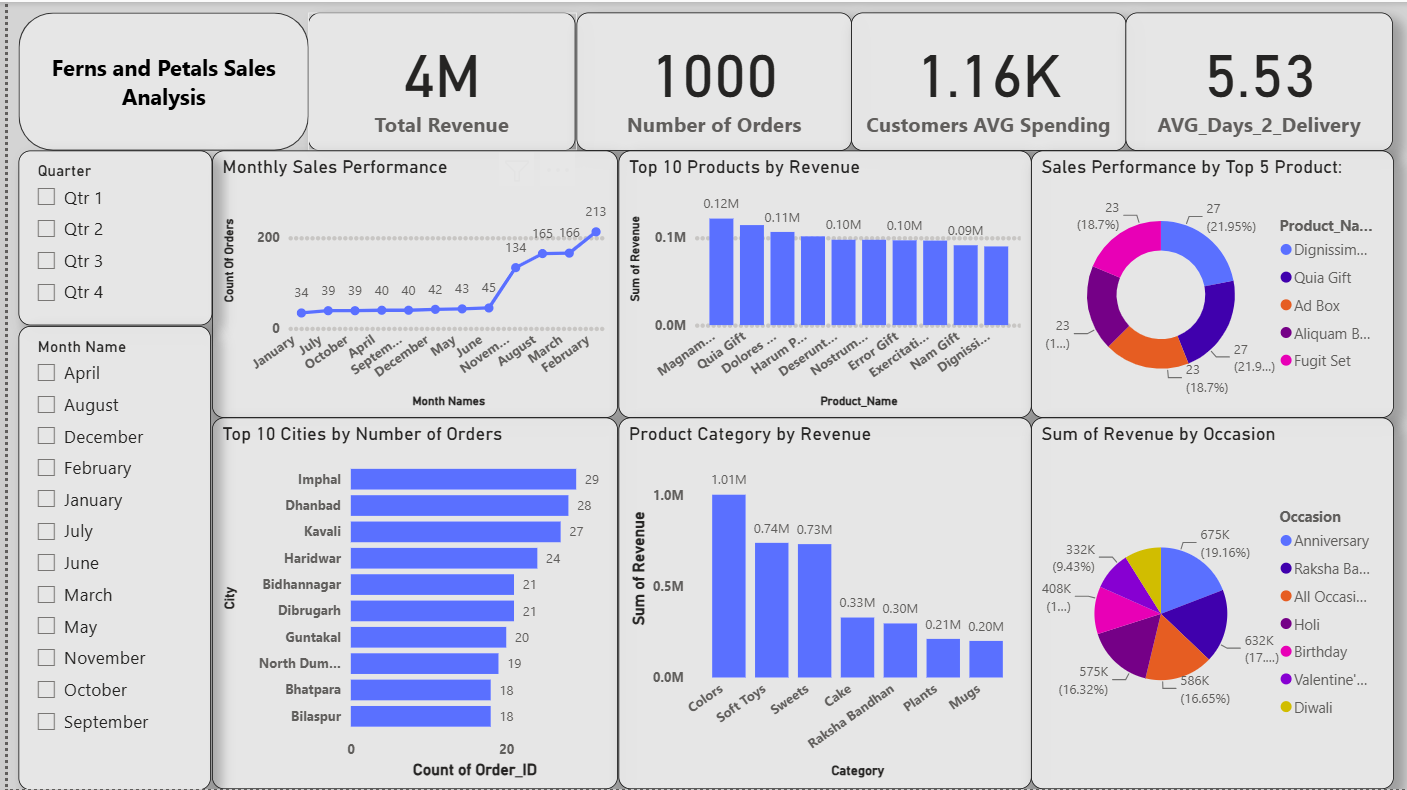

Layout of this report page (visuals, bound fields, positions):
{"tool":"powerbi","page":{"name":"Dashboard","canvas":[1280,720],"ordinal":0},"visuals":[{"type":"card","fields":{"Values":["Products.Total Revenue"]},"box":[274.9,9.3,244.7,126.4],"z":0},{"type":"card","fields":{"Values":["CountNonNull(orders.Order_ID)"]},"box":[519.6,9.3,251.7,126.4],"z":1000},{"type":"card","fields":{"Values":["Avg(orders.Price)"]},"box":[771.3,9.3,251.7,126.4],"z":2000},{"type":"card","fields":{"Values":["Avg(orders.Days)"]},"box":[1023,9.3,244.7,126.4],"z":3000},{"type":"shape","box":[9.3,9.3,265.6,126.4],"z":4000},{"type":"lineChart","title":"Monthly Sales Performance","fields":{"Category":["orders.Month Name"],"Y":["CountNonNull(orders.Order_ID)"]},"box":[186.7,135.7,371.2,244.7],"z":5000},{"type":"columnChart","title":"Top 10 Products by Revenue","fields":{"Category":["Products.Product_Name"],"Y":["Sum(orders.Revenue)"]},"box":[557.9,135.7,378.1,244.7],"z":6000},{"type":"donutChart","title":" Sales Performance by Top 5 Product:","fields":{"Category":["Products.Product_Name"],"Y":["CountNonNull(orders.Order_ID)"]},"box":[936,135.7,331.7,244.7],"z":7000},{"type":"barChart","title":"Top 10 Cities by Number of Orders","fields":{"Category":["customer.City"],"Y":["CountNonNull(orders.Order_ID)"]},"box":[186.7,380.4,371.2,339.8],"z":8000},{"type":"columnChart","title":"Product Category by Revenue","fields":{"Category":["Products.Category"],"Y":["Sum(orders.Revenue)"]},"box":[557.9,380.4,378.1,339.8],"z":9000},{"type":"pieChart","fields":{"Category":["Products.Occasion"],"Y":["Sum(orders.Revenue)"]},"box":[936,380.4,331.7,339.8],"z":10000},{"type":"slicer","fields":{"Values":["orders.Order_Date.Variation.Date Hierarchy.Quarter"]},"box":[9.3,135.7,177.5,160.1],"z":11000},{"type":"slicer","fields":{"Values":["orders.Month Name"]},"box":[9.3,295.8,176.3,424.5],"z":12000}]}

Visuals, with their boxes in screenshot pixels (x1, y1, x2, y2), scaled from the page's 1280x720 canvas onto the 1407x790 screenshot:
card - Products.Total Revenue: <box>302,10,571,149</box>
card - CountNonNull(orders.Order_ID): <box>571,10,848,149</box>
card - Avg(orders.Price): <box>848,10,1125,149</box>
card - Avg(orders.Days): <box>1125,10,1393,149</box>
shape: <box>10,10,302,149</box>
"Monthly Sales Performance" lineChart: <box>205,149,613,417</box>
"Top 10 Products by Revenue" columnChart: <box>613,149,1029,417</box>
" Sales Performance by Top 5 Product:" donutChart: <box>1029,149,1393,417</box>
"Top 10 Cities by Number of Orders" barChart: <box>205,417,613,789</box>
"Product Category by Revenue" columnChart: <box>613,417,1029,789</box>
pieChart - Products.Occasion x Sum(orders.Revenue): <box>1029,417,1393,789</box>
slicer - orders.Order_Date.Variation.Date Hierarchy.Quarter: <box>10,149,205,325</box>
slicer - orders.Month Name: <box>10,325,204,789</box>
